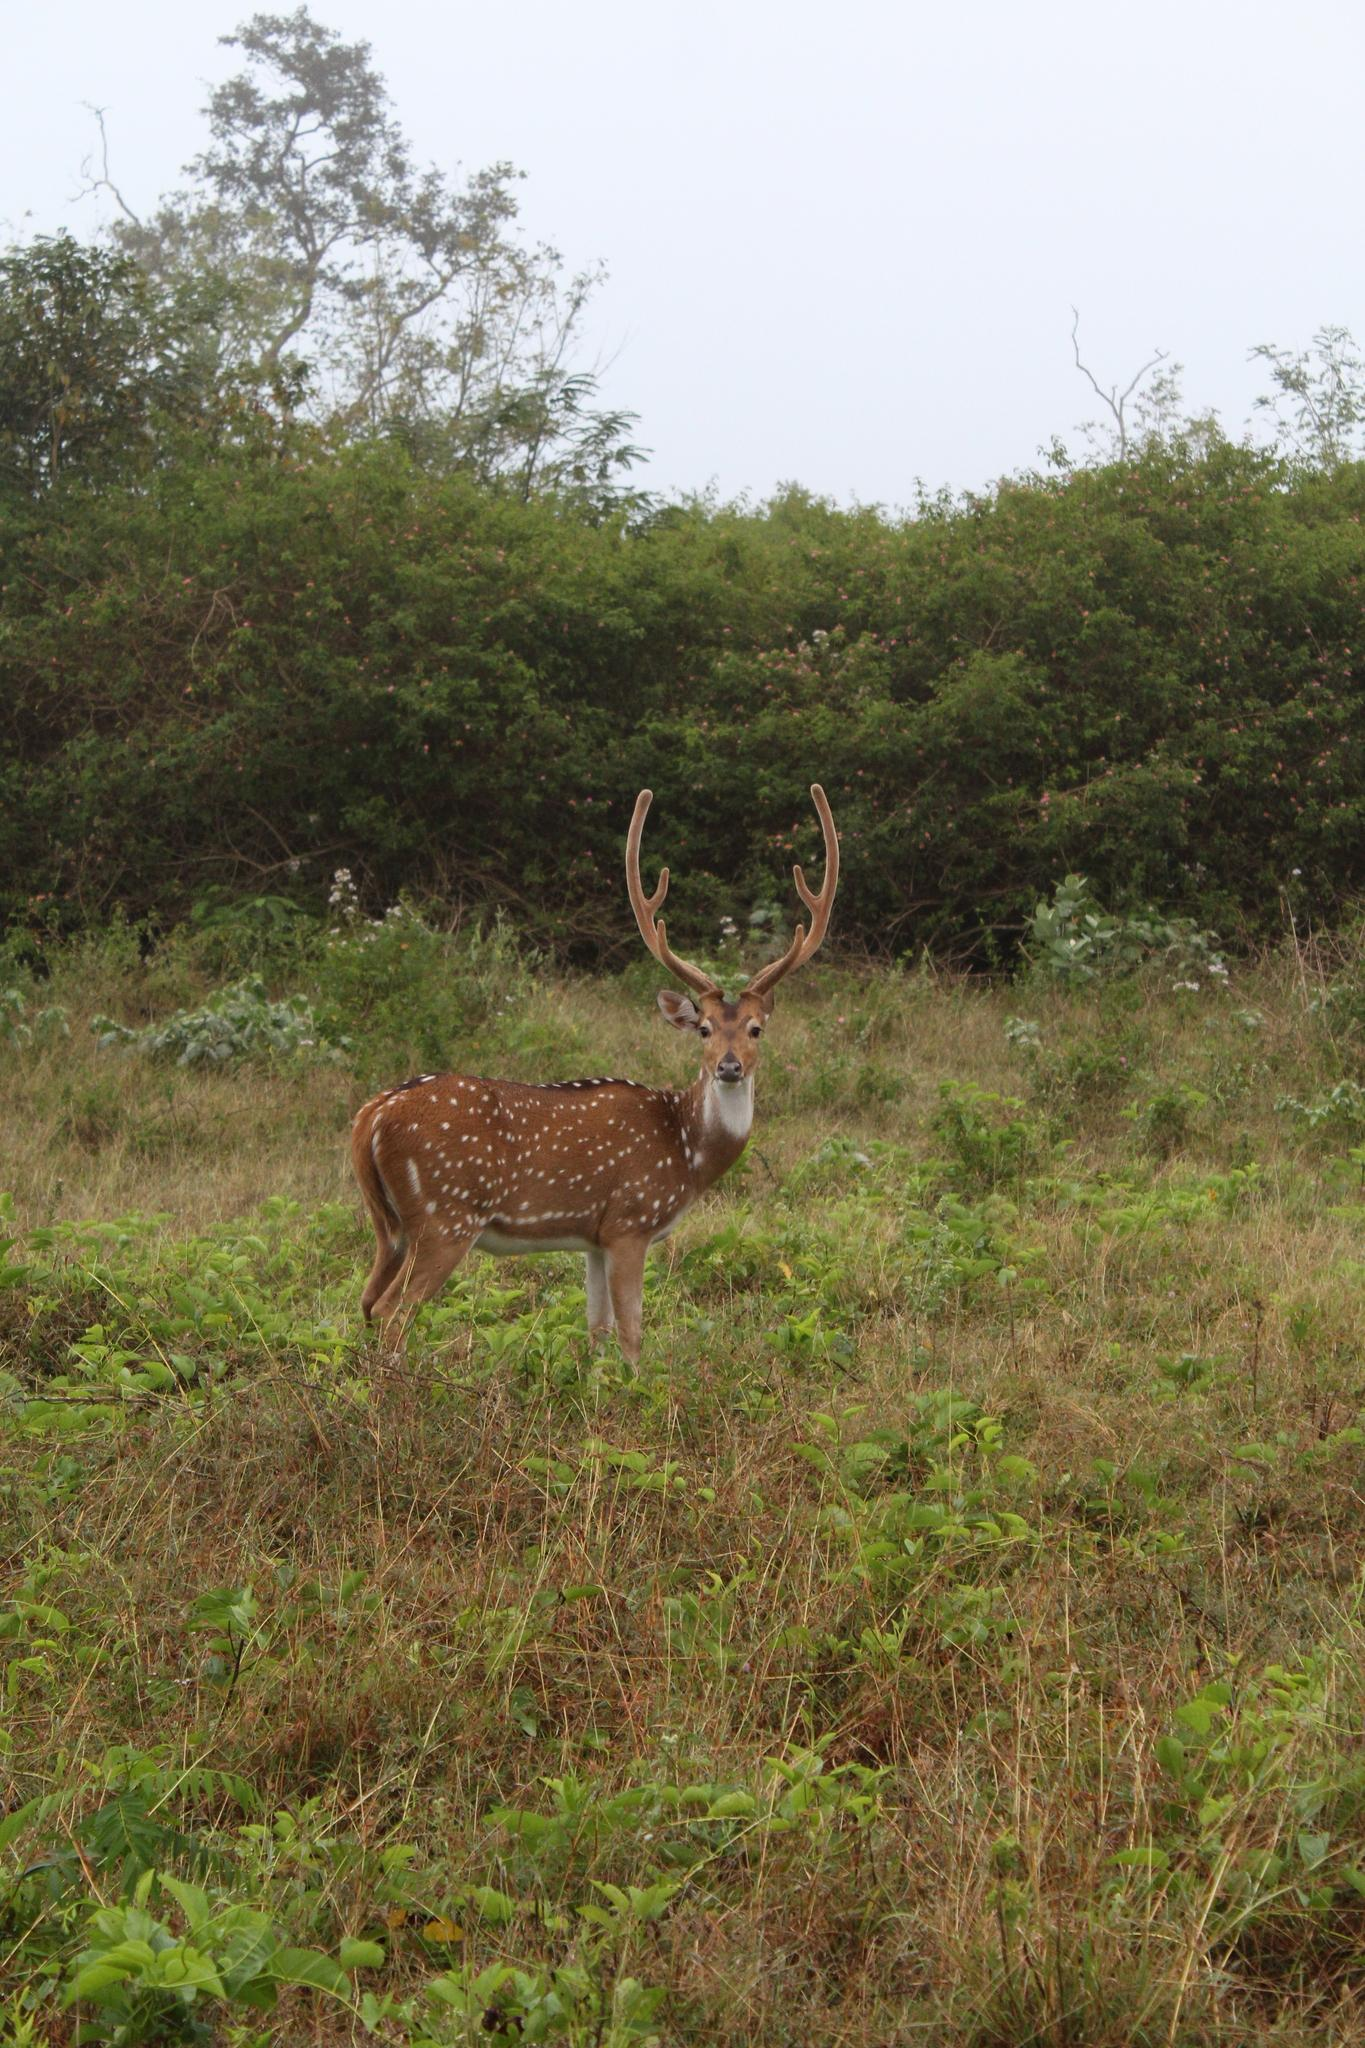Deer: (352, 786, 838, 1360)
